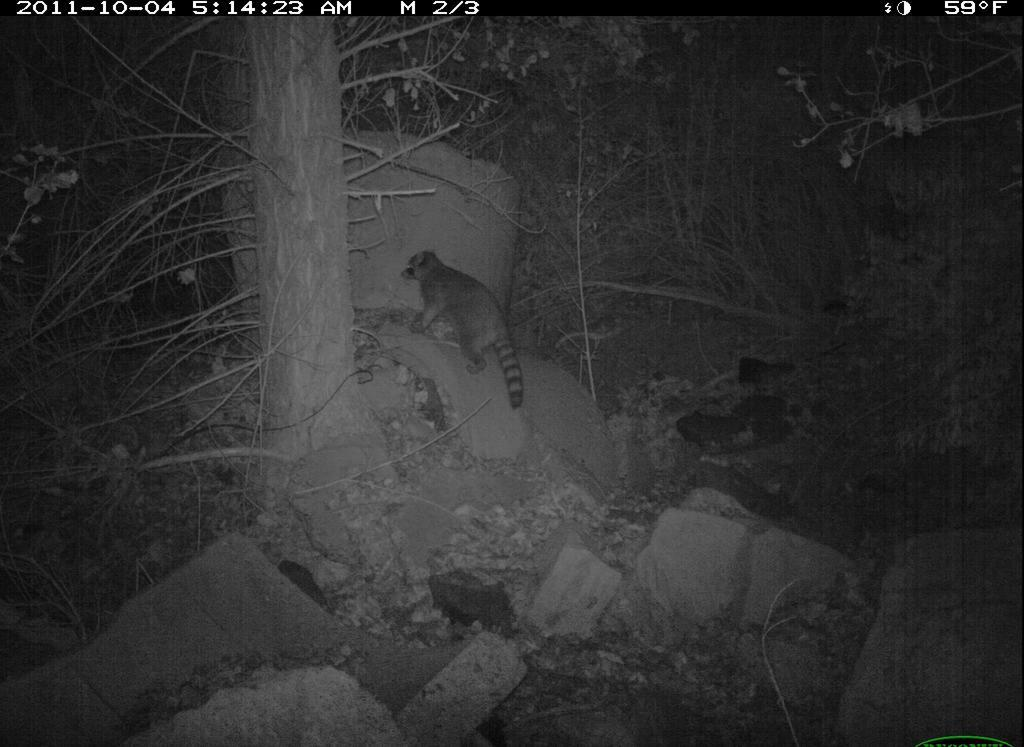raccoon: (395, 244, 536, 425)
